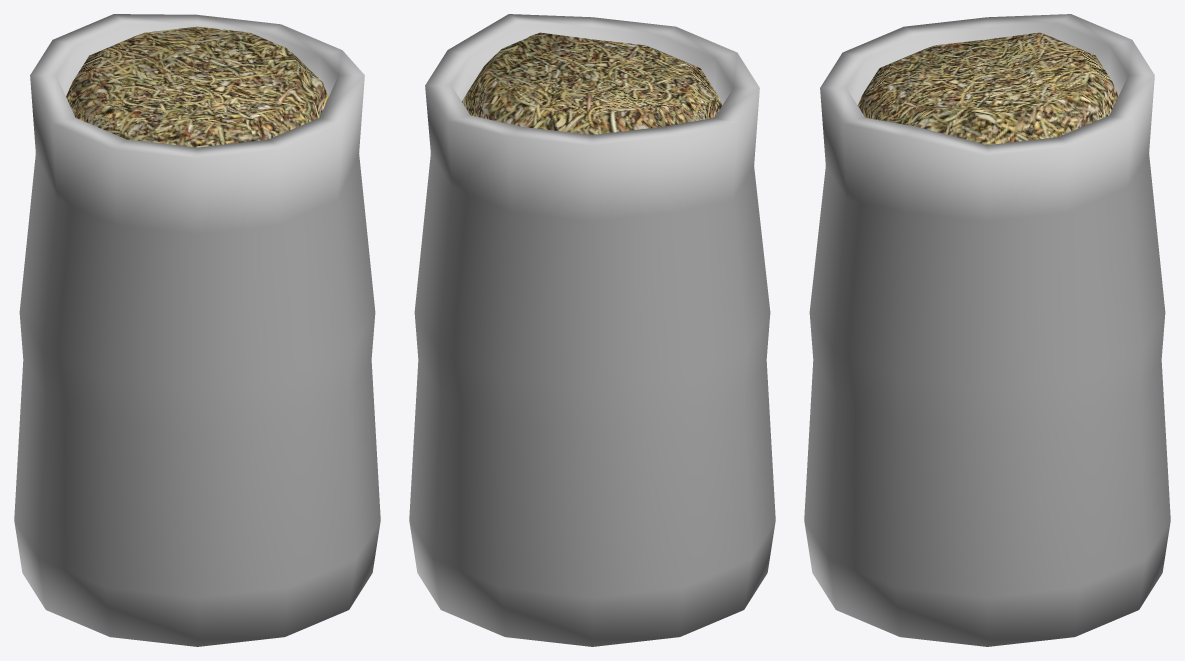
The model's file is grainsack6.dae.
The picture shows the model from 3 angles, left to right: view 1: azimuth 30°, elevation 25°; view 2: azimuth 150°, elevation 25°; view 3: azimuth 270°, elevation 25°; orthographic projection.
Visible parts, largest first — view 1: meshU3D; view 2: meshU3D; view 3: meshU3D.
Boxes of the visible parts, box(x1,y1,x2,y2) form: meshU3D: box(14, 14, 380, 646); meshU3D: box(409, 14, 775, 646); meshU3D: box(804, 14, 1170, 646).
Bounding box in the file's own units: 2.49 × 3.76 × 2.49.
